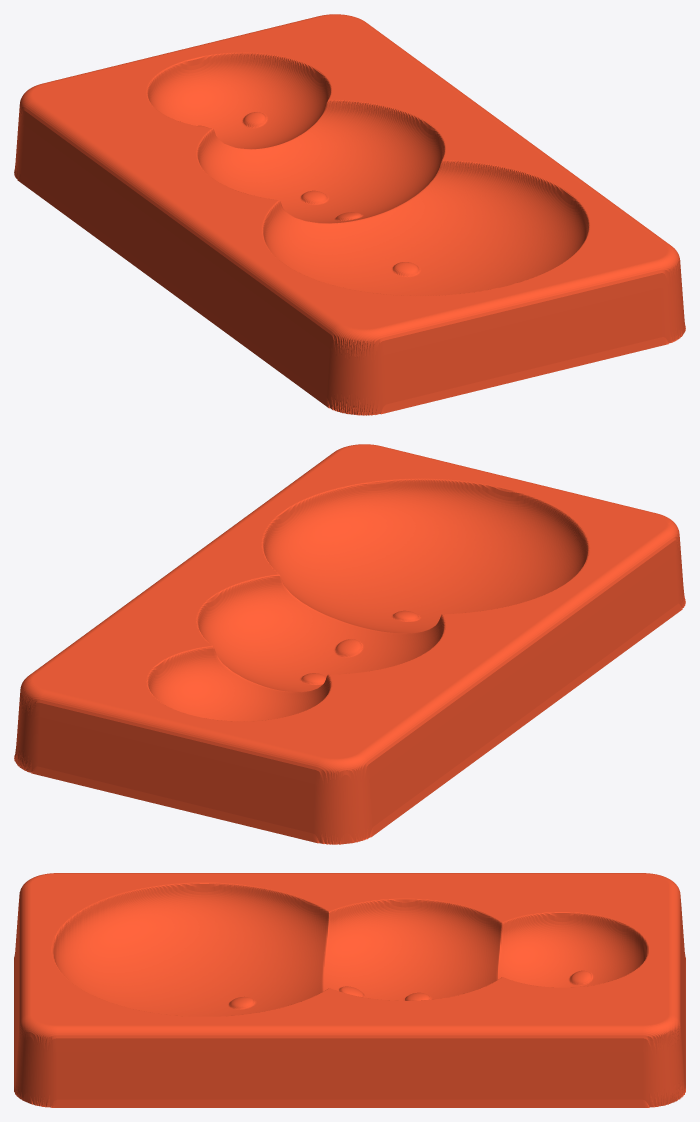
Rendered from mold.glb.
The picture shows the model from 3 angles, top to bottom: view 1: azimuth 30°, elevation 25°; view 2: azimuth 150°, elevation 25°; view 3: azimuth 270°, elevation 25°; orthographic projection. The views are drawn at different scales.
Parts seen in each view (by area): view 1: geometry_0; view 2: geometry_0; view 3: geometry_0.
Boxes of the visible parts, x1,y1,x2,y2 form: geometry_0: (14,14,685,415); geometry_0: (14,444,685,844); geometry_0: (14,873,685,1107).
Bounding box in the file's own units: 0.0826 × 0.0175 × 0.1416.
